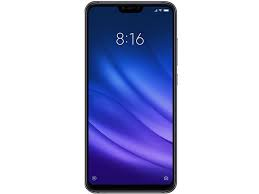mi: (80, 1, 182, 194)
